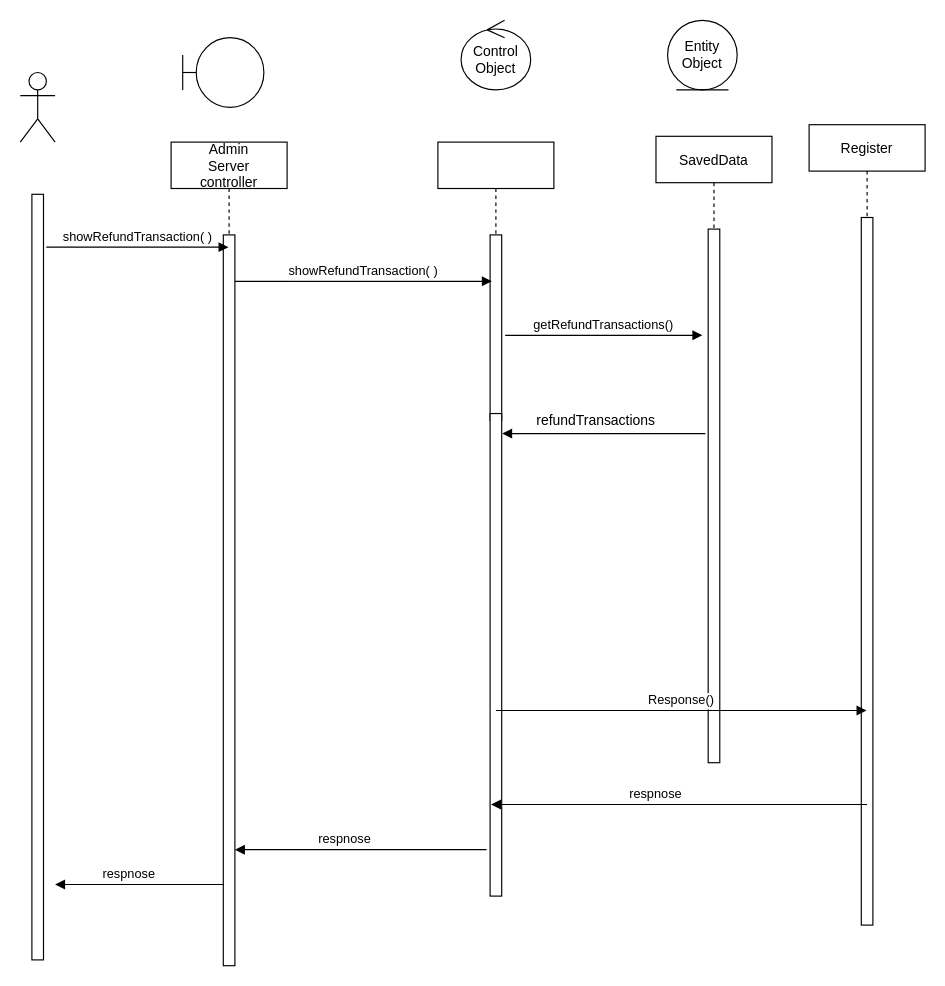
The diagram is 945 pixels wide and 986 high, and some of its shapes have lost their labels. The shapes that lost their labels are listed below. From the top down, each one's box as (x1, y1, x2, y2) in pixels, then its label:
(182, 37, 264, 107): Boundary Object
(19, 71, 55, 142): User
(437, 141, 554, 896): Admin Controller
